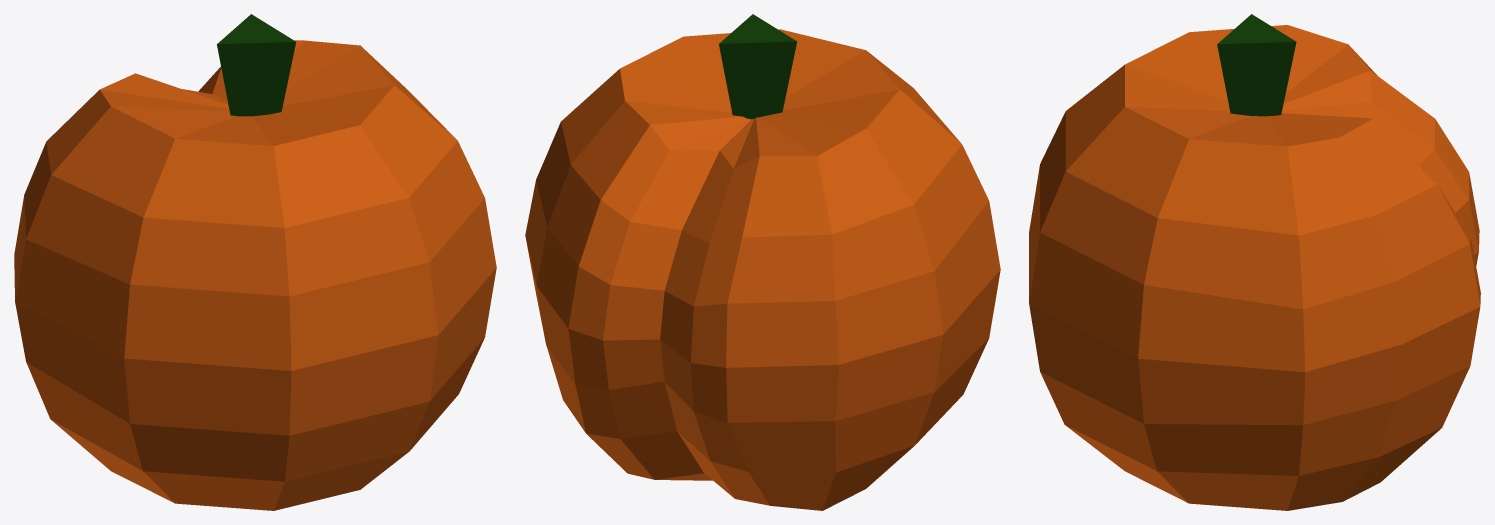
The picture shows the model from 3 angles, left to right: view 1: azimuth 30°, elevation 25°; view 2: azimuth 150°, elevation 25°; view 3: azimuth 270°, elevation 25°; orthographic projection.
Parts seen in each view (by area): view 1: Peach_Sphere.005; view 2: Peach_Sphere.005; view 3: Peach_Sphere.005.
Part boxes in pixels (bbox=[...]): Peach_Sphere.005: bbox=[14, 14, 496, 510]; Peach_Sphere.005: bbox=[525, 14, 1000, 510]; Peach_Sphere.005: bbox=[1029, 14, 1480, 510].
Size of the model in its own units: 1.91 by 1.94 by 1.77.
Materials: 1 (1 with a texture image).
